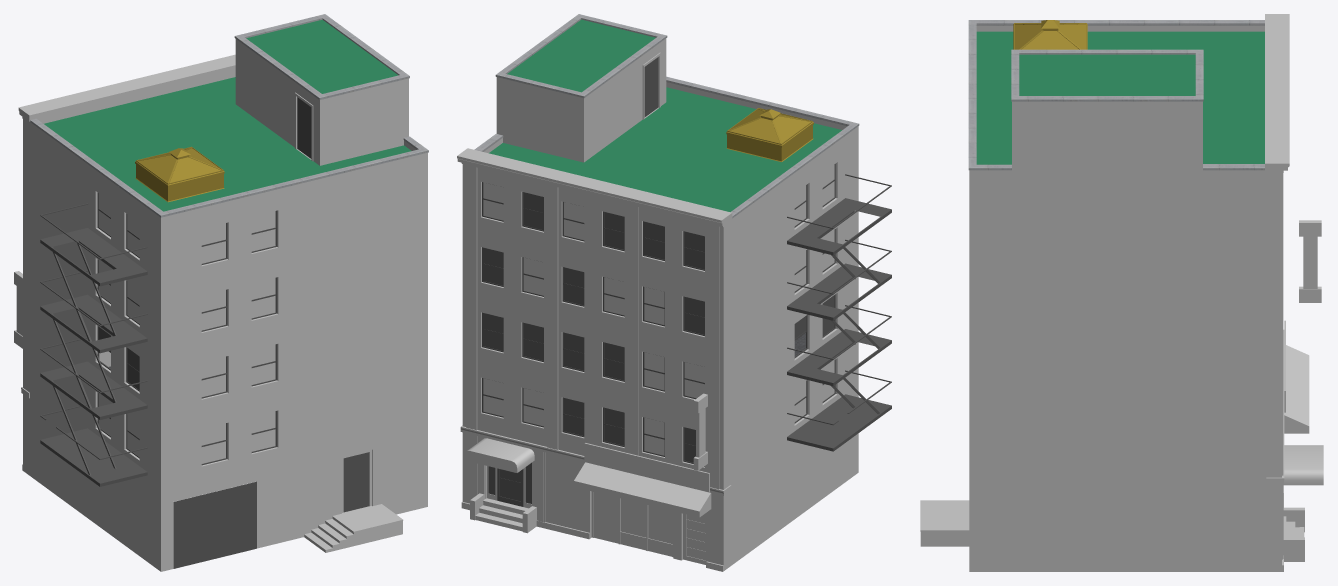
Rendered from mcp_building_05_LOD_1.FBX.
3 views of the same model, side by side, from view 1: azimuth 30°, elevation 25°; view 2: azimuth 150°, elevation 25°; view 3: azimuth 270°, elevation 25° (orthographic). The views are drawn at different scales.
Parts seen in each view (by area): view 1: mcp_building_05_walls_02, mcp_building_05_roof, mcp_building_05_props_01, mcp_building_05_01, mcp_building_05_metal, mcp_building_05_props_02, mcp_building_05_brick_01, mcp_building_05_02, mcp_building_05_door_03, mcp_building_05_door_02; view 2: mcp_building_05_brick_01, mcp_building_05_walls_02, mcp_building_05_01, mcp_building_05_roof, mcp_building_05_props_01, mcp_building_05_windows_01, mcp_building_05_windows_02, mcp_building_05_metal, mcp_building_05_props_02, mcp_building_05_02, mcp_building_05_door_02, mcp_building_05_glass_03 (+1 smaller); view 3: mcp_building_05_walls_02, mcp_building_05_roof, mcp_building_05_01, mcp_building_05_brick_01, mcp_building_05_metal, mcp_building_05_props_02.
Boxes of the visible parts, <box> form: mcp_building_05_walls_02: <box>30,39,427,571</box>; mcp_building_05_roof: <box>44,19,411,211</box>; mcp_building_05_props_01: <box>40,203,256,568</box>; mcp_building_05_01: <box>14,54,403,552</box>; mcp_building_05_metal: <box>30,14,428,217</box>; mcp_building_05_props_02: <box>135,146,224,202</box>; mcp_building_05_brick_01: <box>23,117,29,475</box>; mcp_building_05_02: <box>97,193,277,465</box>; mcp_building_05_door_03: <box>343,452,369,512</box>; mcp_building_05_door_02: <box>297,97,311,158</box>; mcp_building_05_brick_01: <box>462,164,730,570</box>; mcp_building_05_walls_02: <box>484,38,858,566</box>; mcp_building_05_01: <box>457,52,834,571</box>; mcp_building_05_roof: <box>489,19,841,211</box>; mcp_building_05_props_01: <box>787,174,891,451</box>; mcp_building_05_windows_01: <box>562,202,704,466</box>; mcp_building_05_windows_02: <box>483,182,704,426</box>; mcp_building_05_metal: <box>474,14,859,218</box>; mcp_building_05_props_02: <box>726,108,813,161</box>; mcp_building_05_02: <box>482,164,835,427</box>; mcp_building_05_door_02: <box>644,57,658,117</box>; mcp_building_05_glass_03: <box>488,295,834,503</box>; mcp_building_05_walls_02: <box>969,25,1266,571</box>; mcp_building_05_roof: <box>976,31,1264,164</box>; mcp_building_05_01: <box>920,14,1323,571</box>; mcp_building_05_brick_01: <box>1266,170,1283,571</box>; mcp_building_05_metal: <box>968,20,1264,170</box>; mcp_building_05_props_02: <box>1013,20,1087,49</box>.
Bounding box in the file's own units: 1760 × 1712 × 2217.
